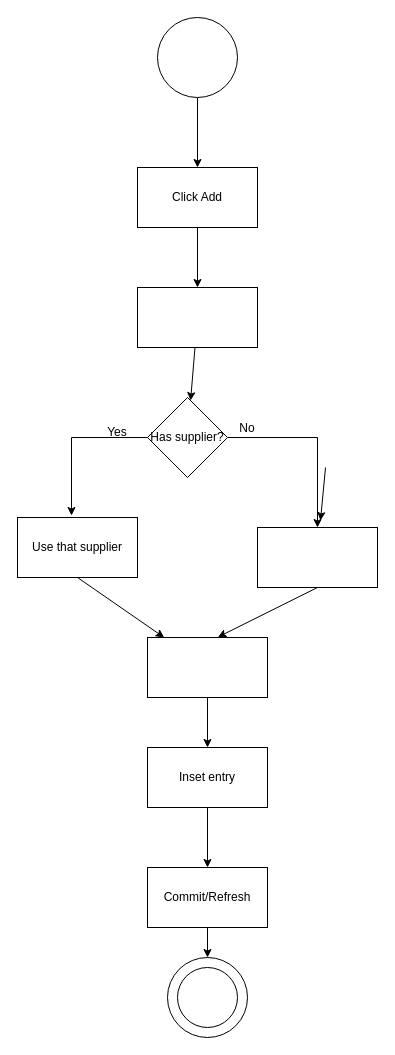
Some shapes in this 395 by 1055 pixel diagram are drawn without their labels. The centre of each missing label's shape, as x and y in pixels:
"Enter Product Details" belongs at point (197, 317).
"Insert Product" belongs at point (207, 667).
"Use Stock Correction" belongs at point (317, 557).
